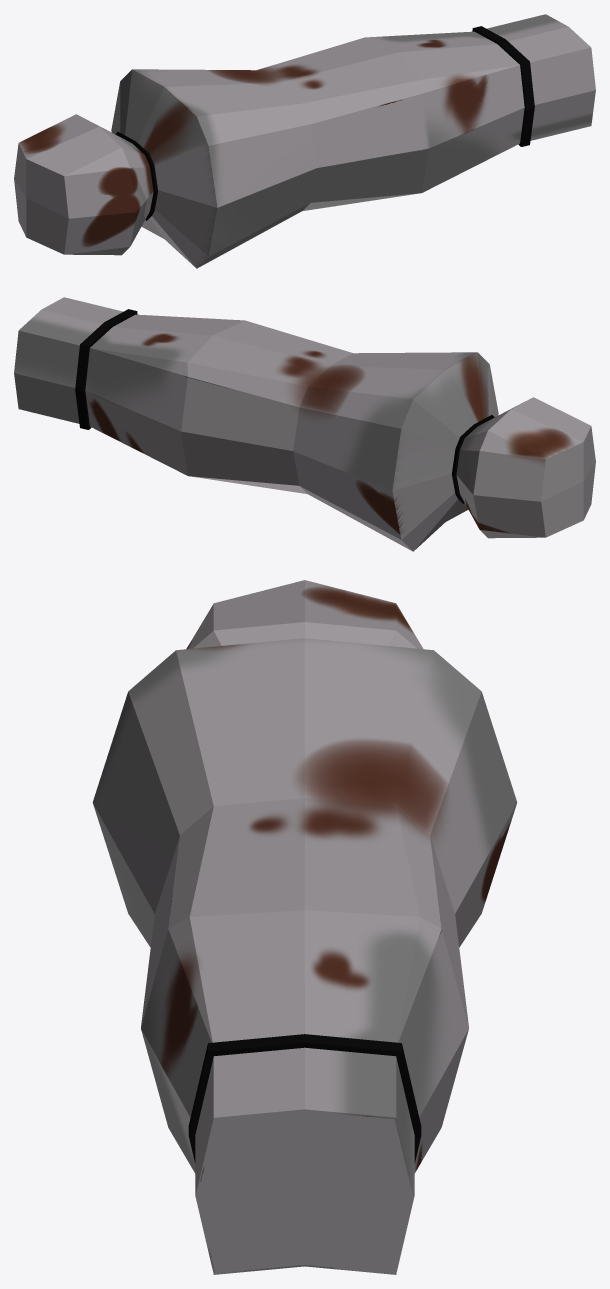
The model's file is les normalac.glb.
3 views of the same model, one above another, from view 1: azimuth 30°, elevation 25°; view 2: azimuth 150°, elevation 25°; view 3: azimuth 270°, elevation 25° (orthographic). The views are drawn at different scales.
Parts seen in each view (by area): view 1: Cube.006; view 2: Cube.006; view 3: Cube.006.
Boxes of the visible parts, x1=… form: Cube.006: x1=14, y1=14, x2=595, y2=268; Cube.006: x1=14, y1=297, x2=595, y2=551; Cube.006: x1=92, y1=580, x2=517, y2=1274.
Bounding box in the file's own units: 7.85 × 2.19 × 2.66.
2 materials, 1 textured.
